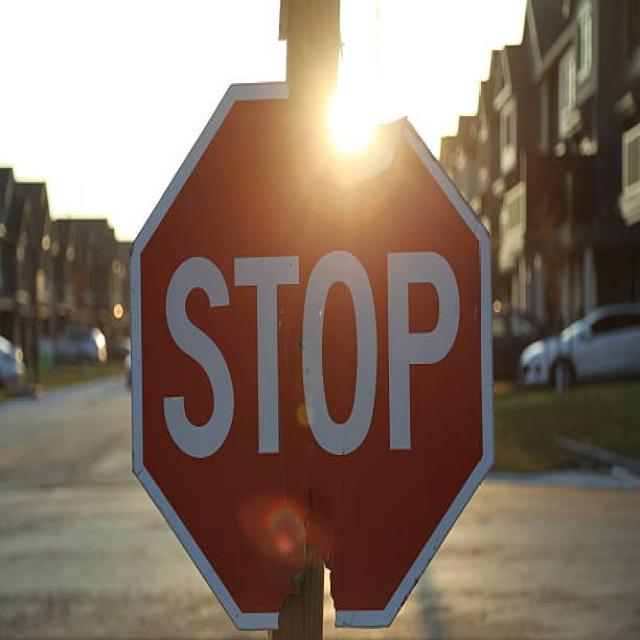stop: (123, 66, 487, 634)
